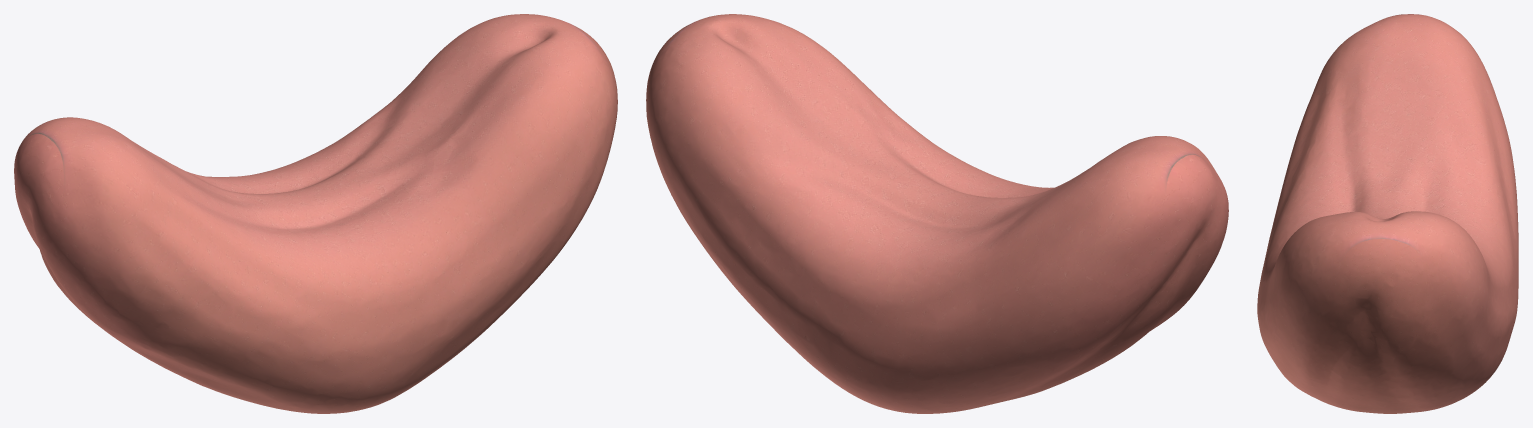
The model's file is Part_Tongue.glb.
3 views of the same model, side by side, from view 1: azimuth 30°, elevation 25°; view 2: azimuth 150°, elevation 25°; view 3: azimuth 270°, elevation 25° (orthographic). The views are drawn at different scales.
Size of the model in its own units: 1.9 by 0.9921 by 0.8614.
Materials: 1 (1 with a texture image).
